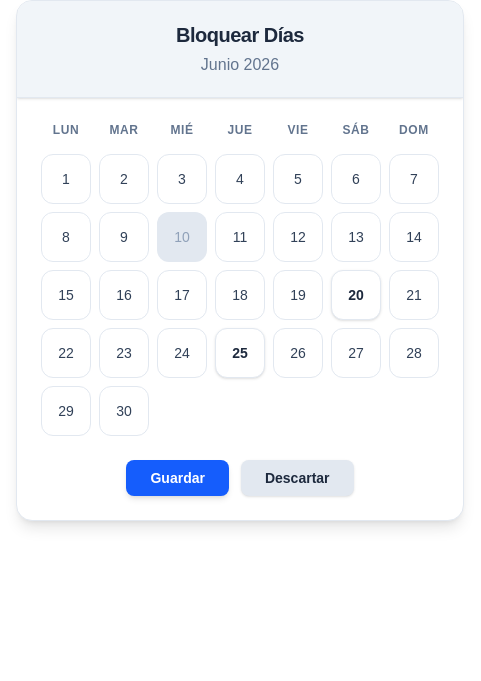
Test: US_005: Seleccionar días para bloquearlos › Escenario 4: Bloqueo de día con turnos reservados (CP-005-03) - Continuar
// Seleccionamos un día futuro (20 de junio)
Click the text with test id "dia-2026-06-20". click: (356, 295)
box: [331, 270, 381, 320]
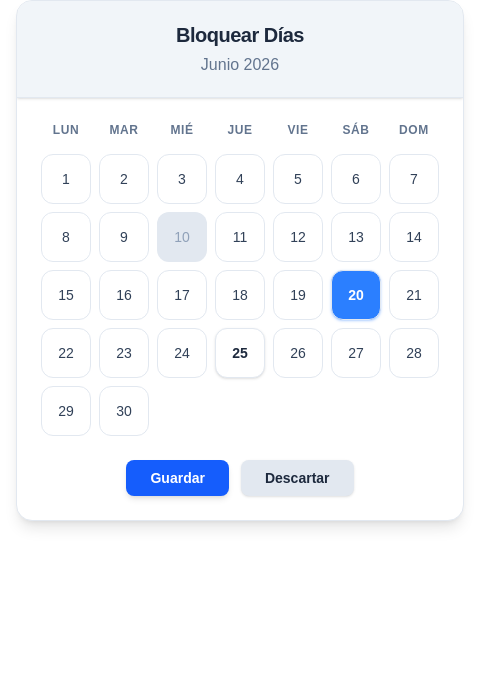
// Presionamos el botón de guardar
Click the button "Guardar". click: (178, 478)
box: [126, 460, 229, 496]
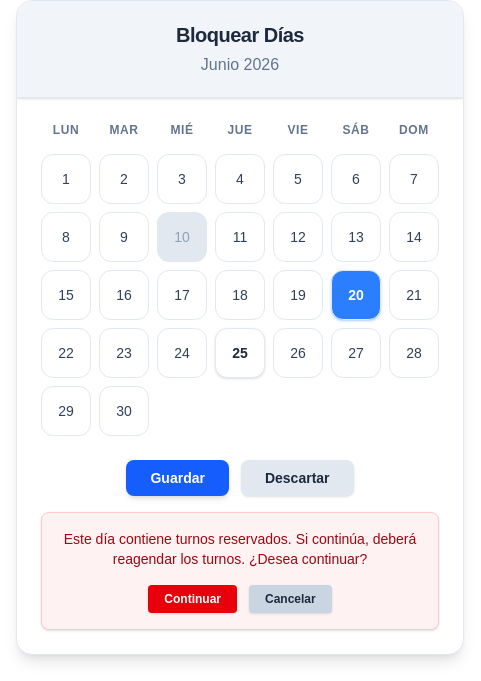
expect the element with test id "modal-advertencia-reservas" is shown: met, box [41, 512, 439, 630]
expect the text "Este día contiene turnos reservados. Si continúa, deberá reagendar los turnos. ¿Desea continuar?" is shown: met, box [64, 531, 416, 567]
// Confirmamos continuar
Click the button "Continuar". click: (193, 599)
box: [148, 585, 237, 613]
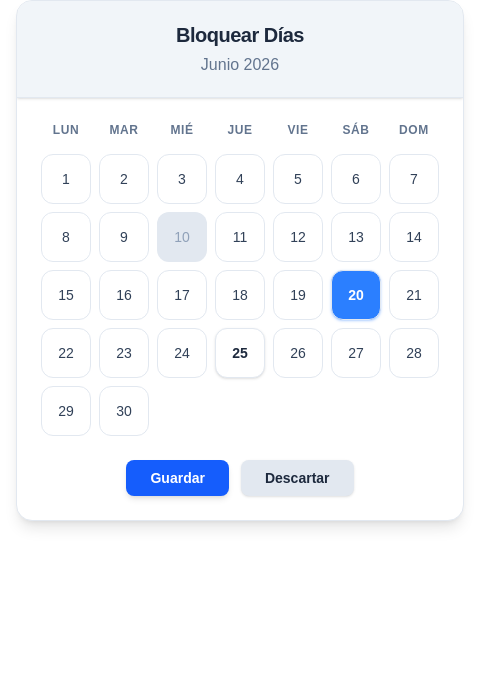
expect the element with test id "modal-advertencia-reservas" is gone: met
